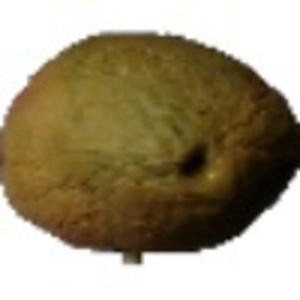mamão: (1, 25, 296, 253)
